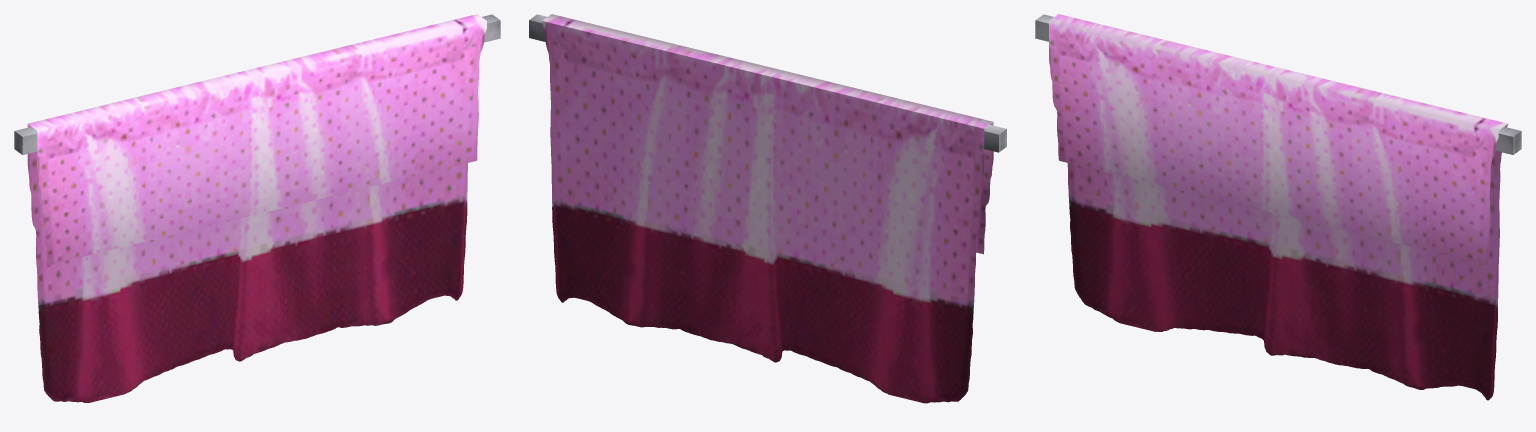
Rendered from furni_0200528_01.FBX.
3 renders of one model, left to right at view 1: azimuth 30°, elevation 25°; view 2: azimuth 150°, elevation 25°; view 3: azimuth 330°, elevation 25°, orthographic.
Parts seen in each view (by area): view 1: furni_0200528_01; view 2: furni_0200528_01; view 3: furni_0200528_01.
Boxes of the visible parts, x1,y1,x2,y2 form: furni_0200528_01: [14, 14, 500, 402]; furni_0200528_01: [529, 14, 1006, 403]; furni_0200528_01: [1035, 14, 1521, 400].
Size of the model in its own units: 87.31 by 51.37 by 3.04.
1 material, 1 textured.
